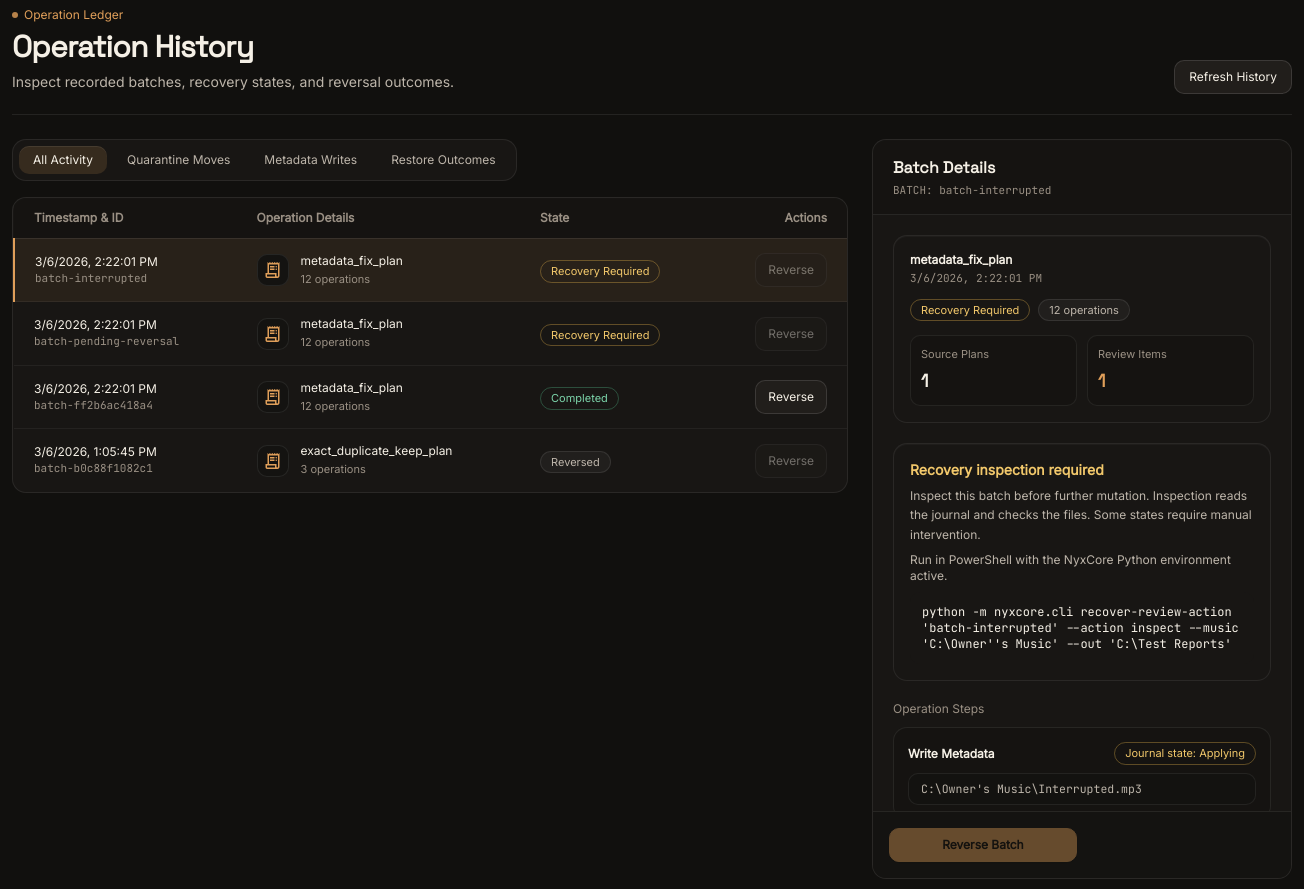
History Page › shows completed and unresolved batches together and only enables settled reversal
Check: the 1st text "Recovery Required" is shown, box [540, 260, 660, 283]
Check: the 1st button "Reverse" is disabled, box [755, 253, 827, 287]
Click the button with aria-label "inspect batch batch-pending-reversal" at (107, 334), box [34, 317, 179, 350]
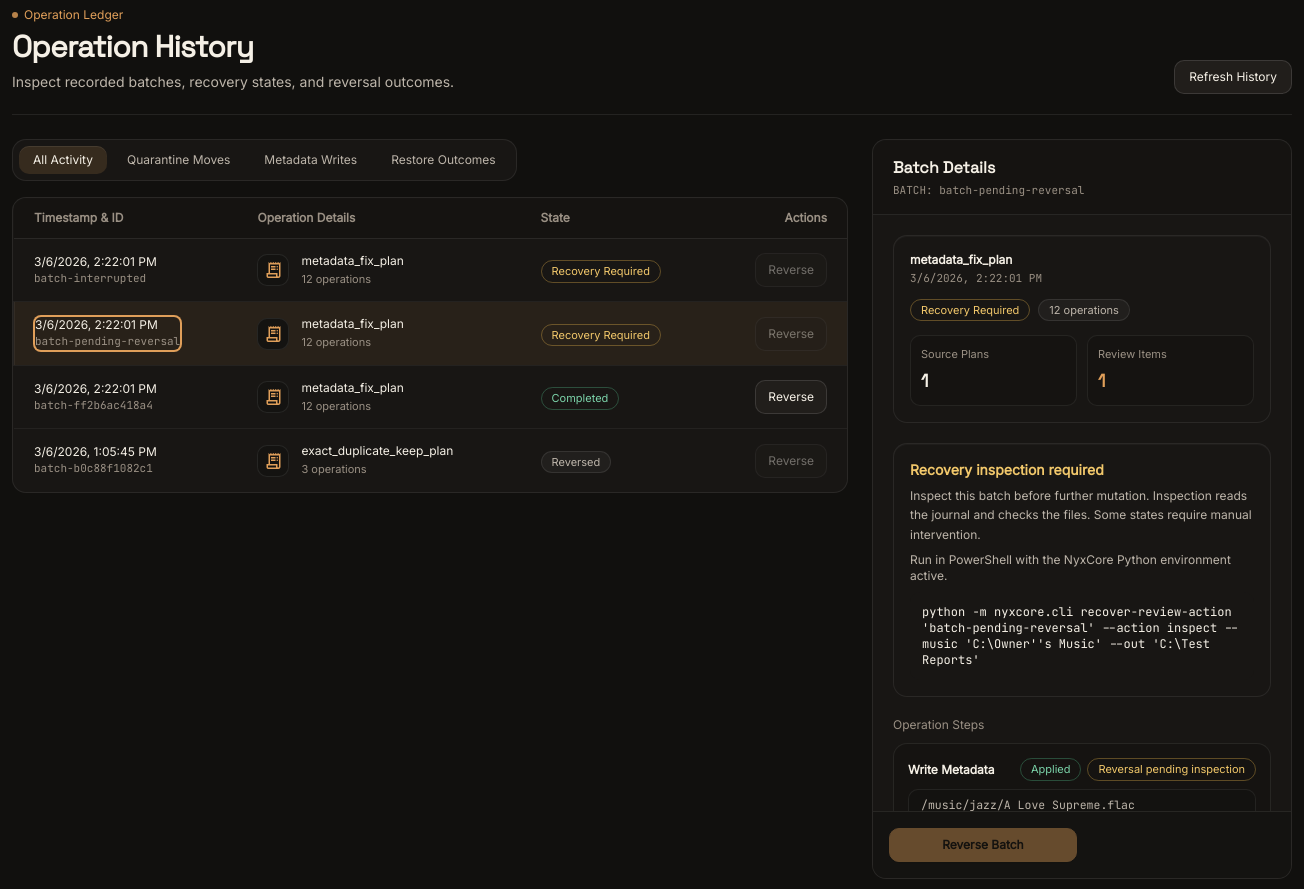
Check: the button "Reverse Batch" is disabled, box [889, 828, 1077, 862]
Check: the text "Reversal pending inspection" is shown, box [1088, 758, 1256, 781]
Click the button "3/6/2026, 2:22:01 PM batch-ff2b6ac418a4" at (95, 397), box [34, 381, 157, 413]
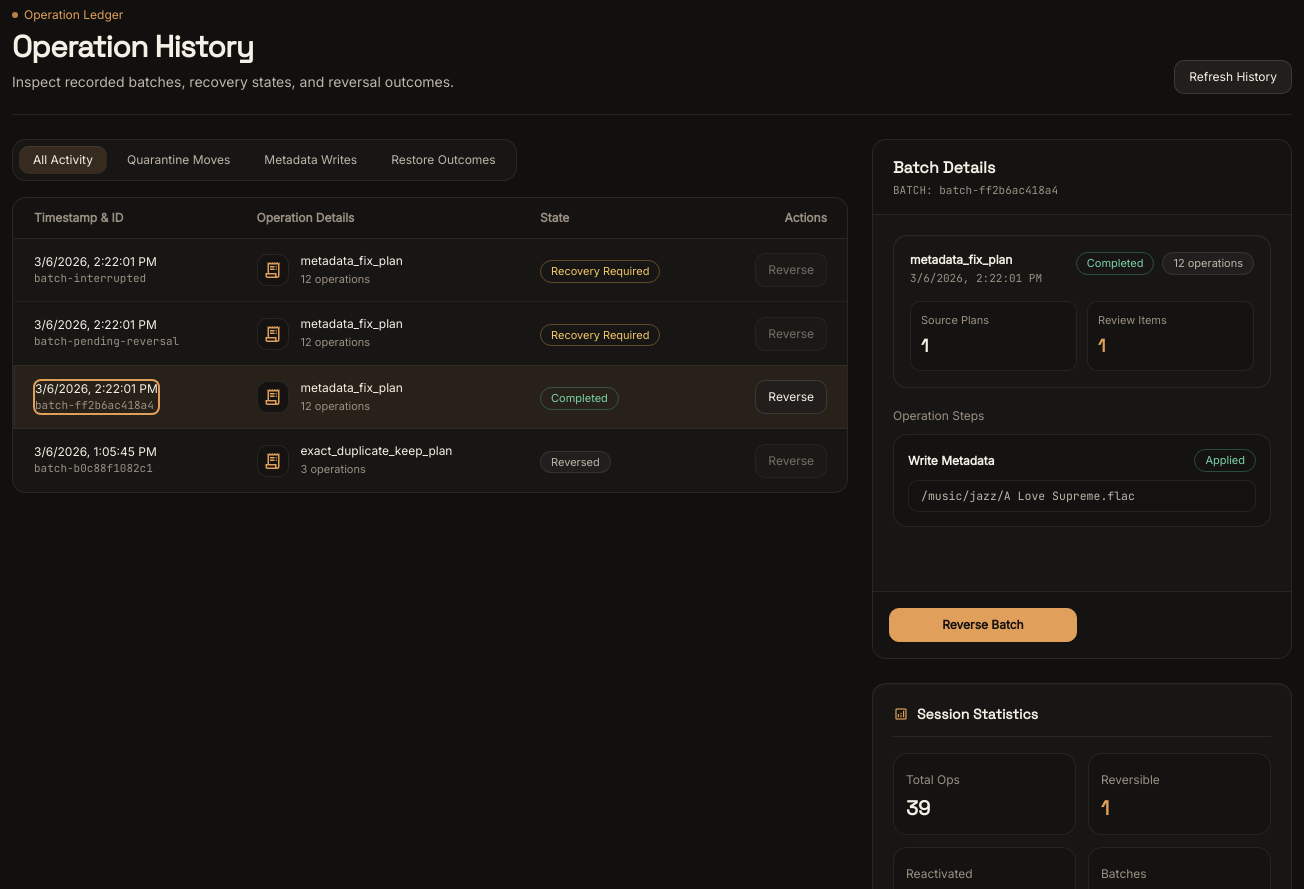
Check: the button "Reverse Batch" is enabled, box [889, 608, 1077, 642]
Check: the heading "Recovery inspection required" is gone
